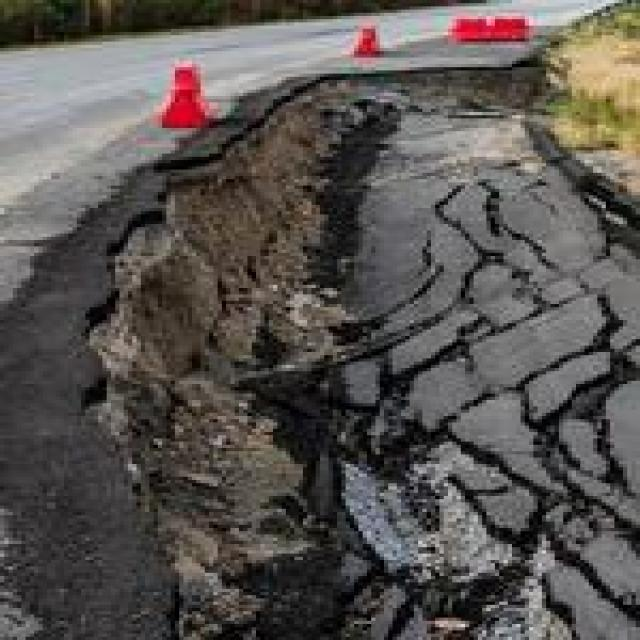road collapse: (79, 51, 640, 640)
